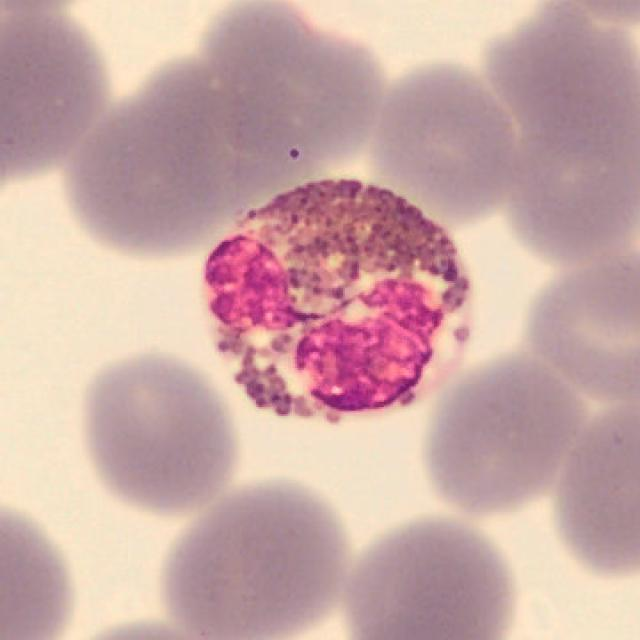Eosinofilo: (201, 181, 473, 425)
